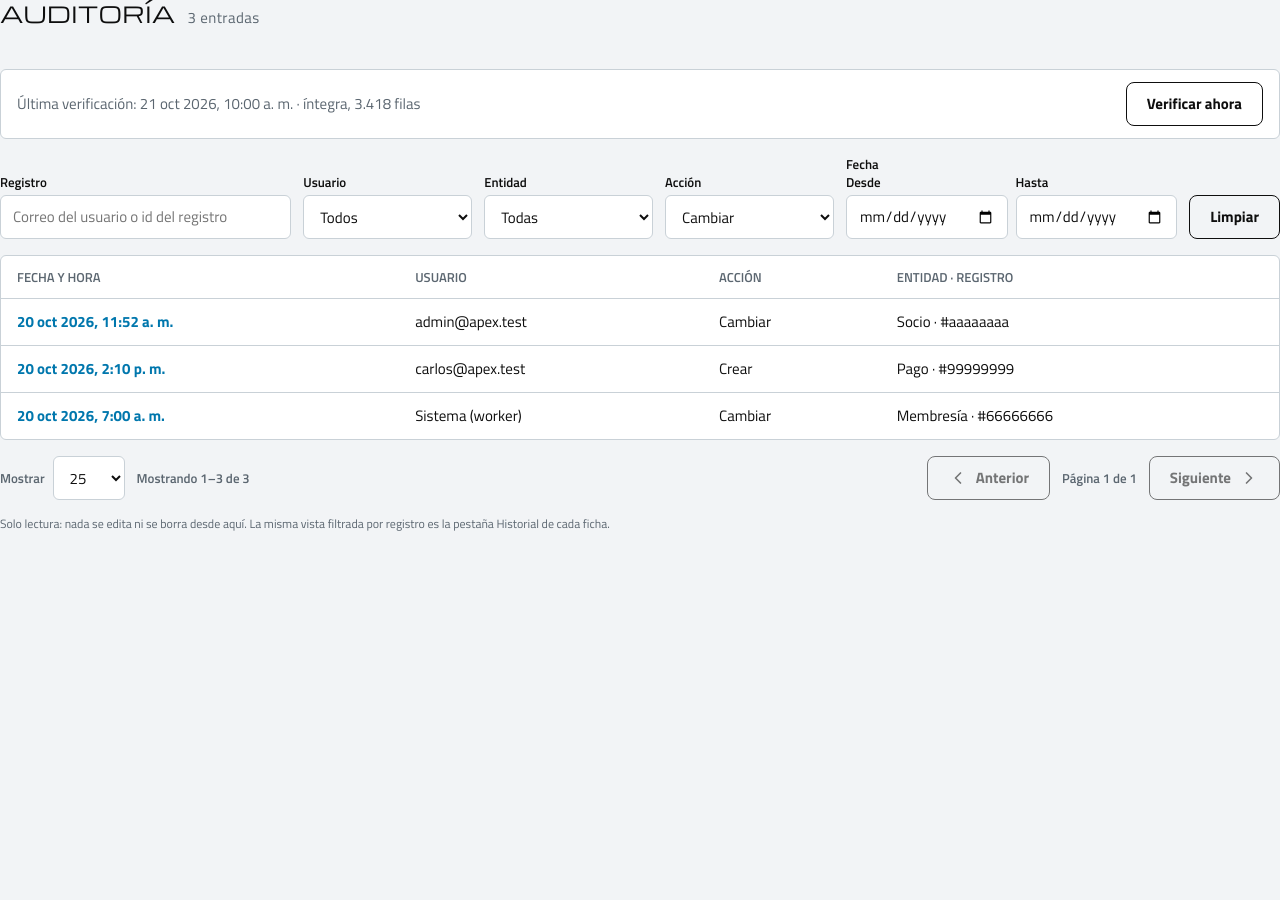
Scenario: AuditPage · detalle por ?seq= (US-103) › una fila abre el detalle con ?seq= sin perder los filtros y cerrar lo quita
Click the link "20 oct 2026, 11:52 a. m.": (95, 322) [17,310,173,333]
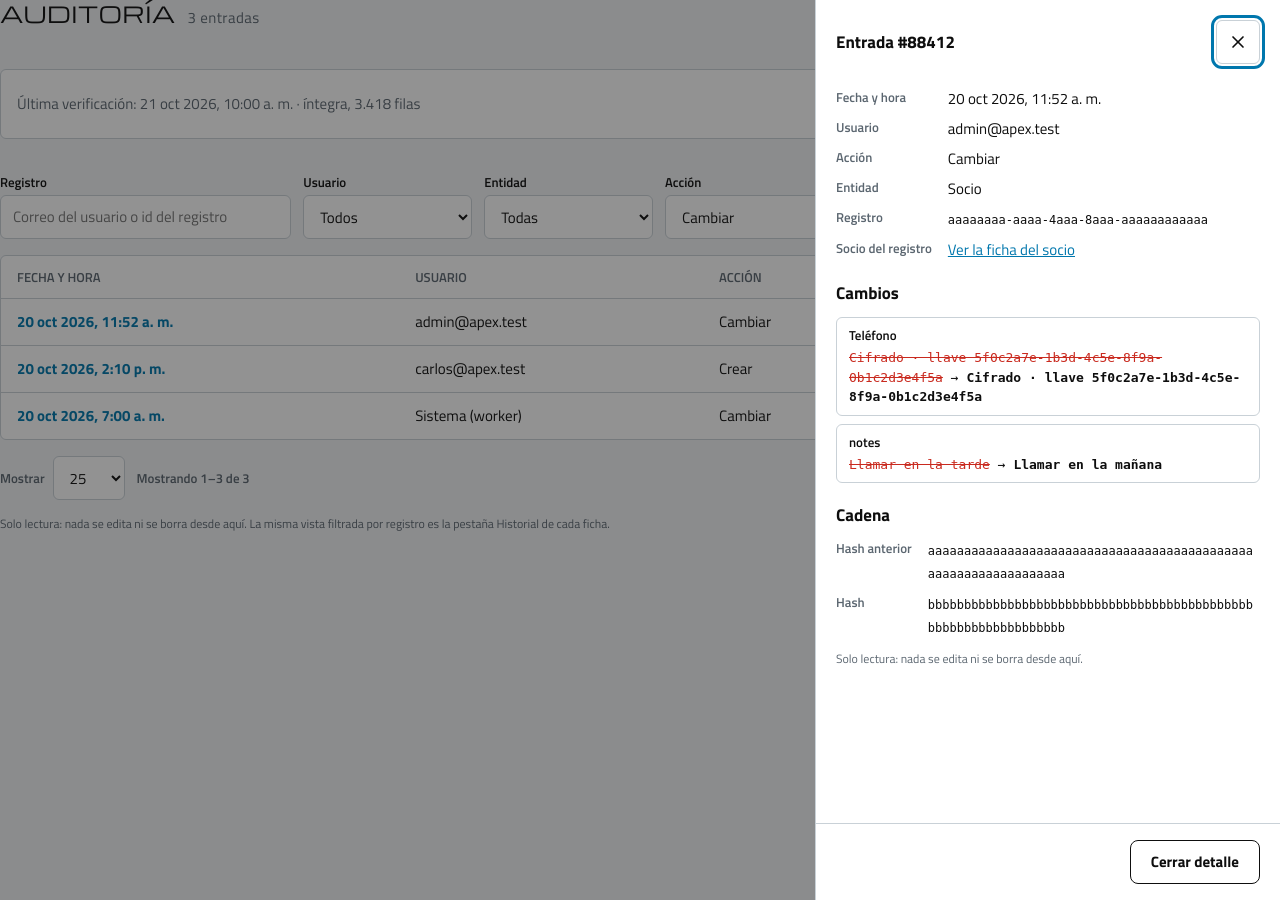
Click the button named "Cerrar": (1238, 42) [1216,20,1260,64]
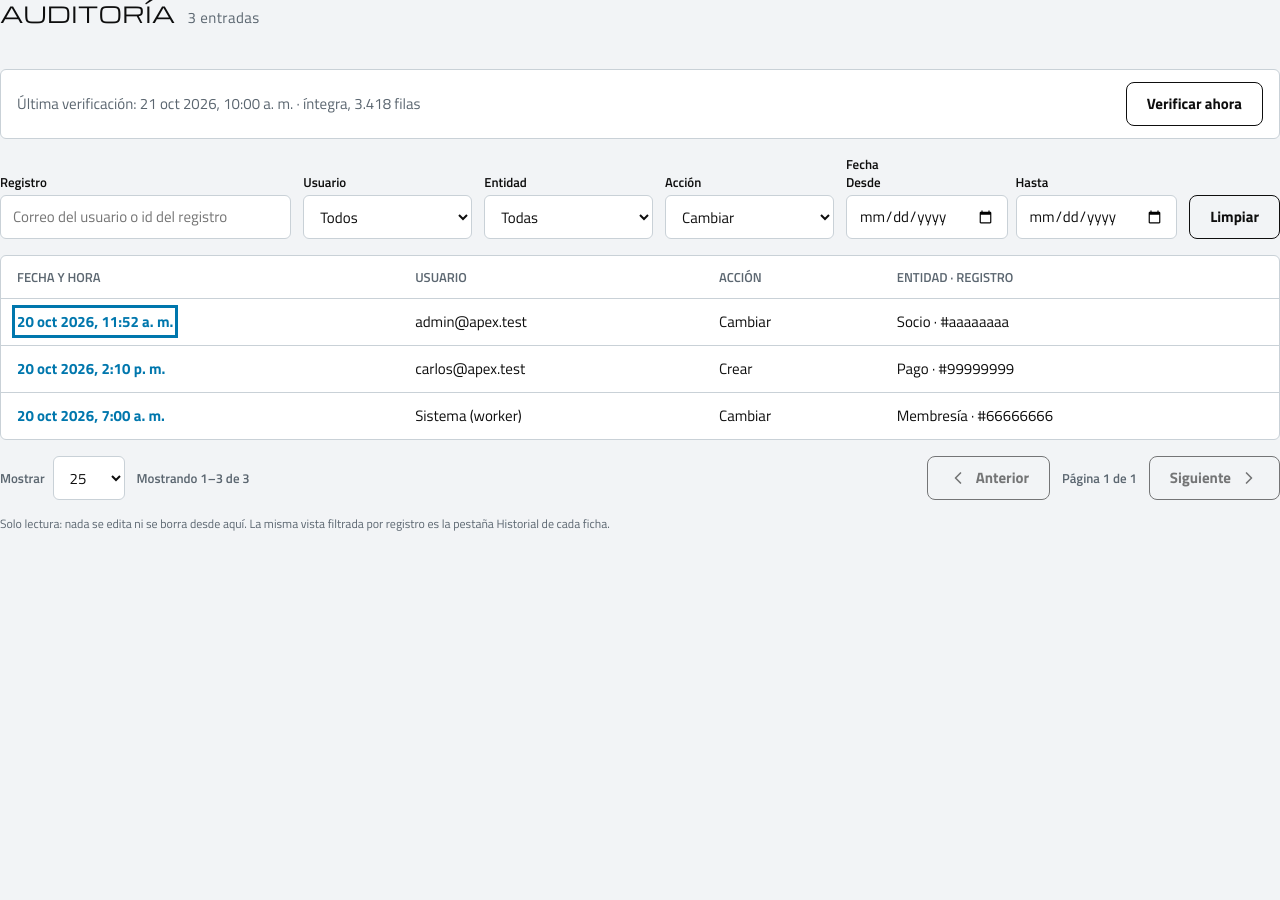
Check: the dialog is gone
